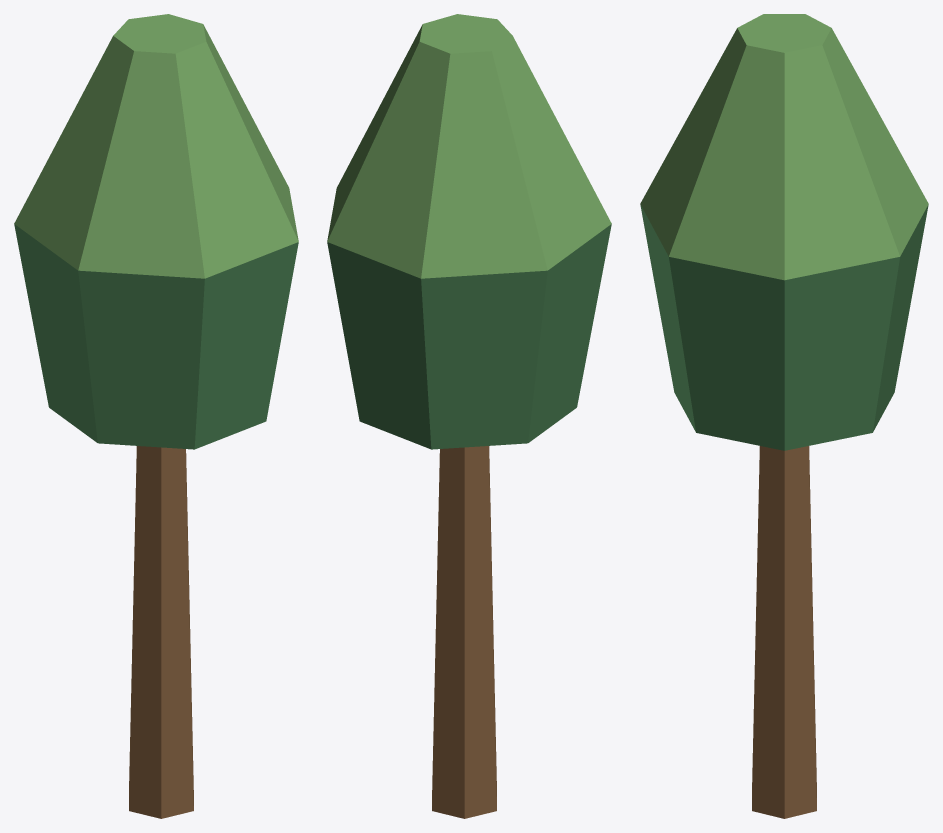
Rendered from tree-column.glb.
3 views of the same model, side by side, from view 1: azimuth 30°, elevation 25°; view 2: azimuth 150°, elevation 25°; view 3: azimuth 270°, elevation 25° (orthographic).
Visible parts, largest first — view 1: asset_root; view 2: asset_root; view 3: asset_root.
Boxes of the visible parts, bbox=[...] form: asset_root: bbox=[14, 14, 298, 818]; asset_root: bbox=[327, 14, 611, 818]; asset_root: bbox=[640, 14, 928, 818].
Bounding box in the file's own units: 1.05 × 3.16 × 1.07.
